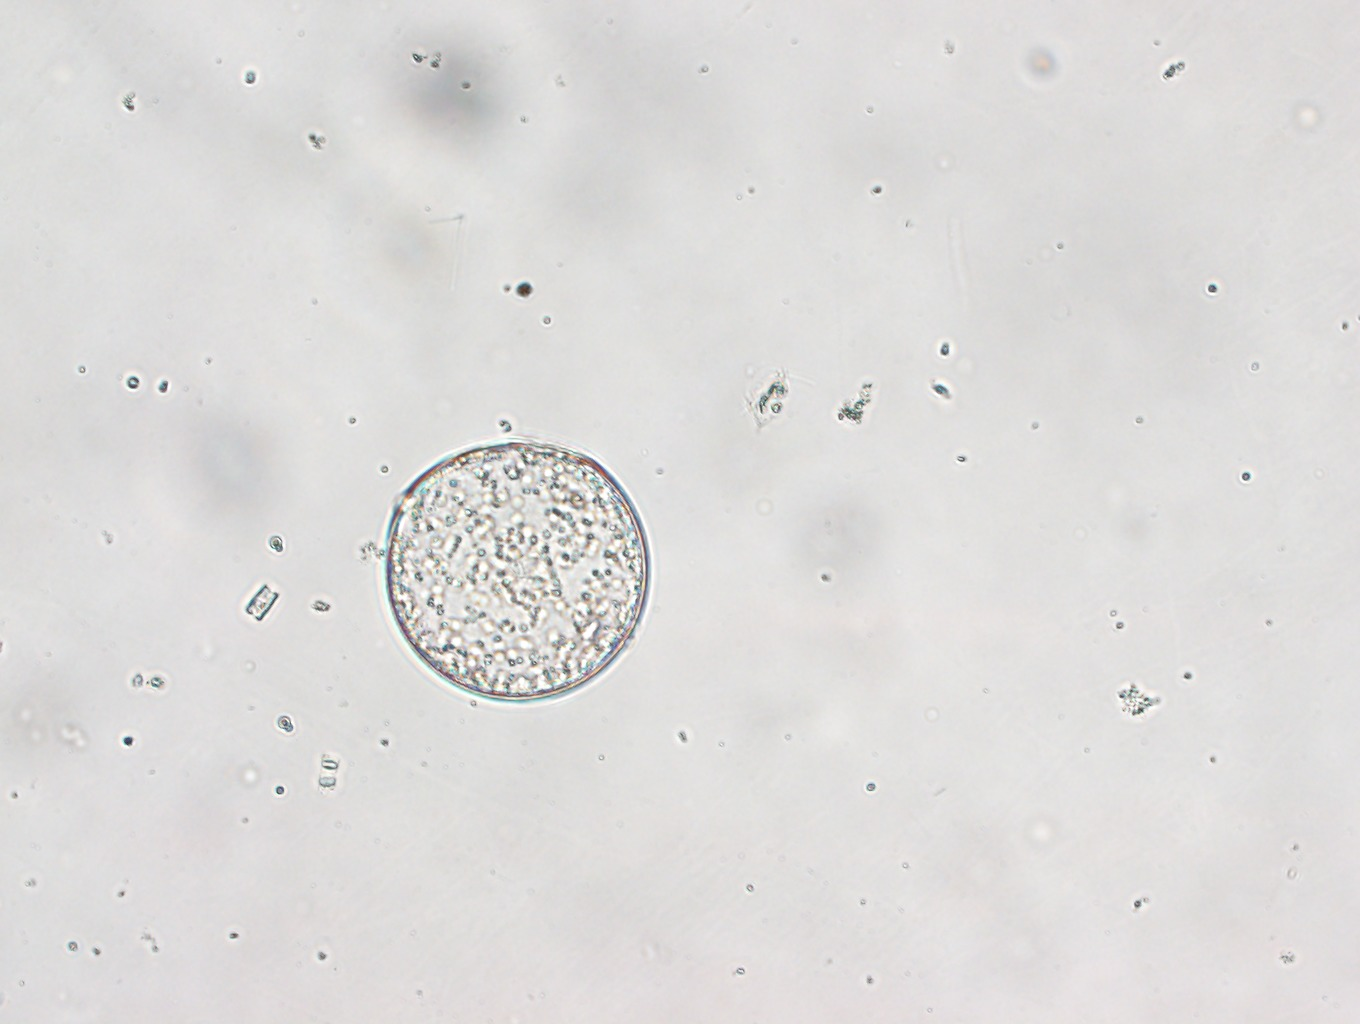coscinodiscus: (377, 435, 653, 708)
